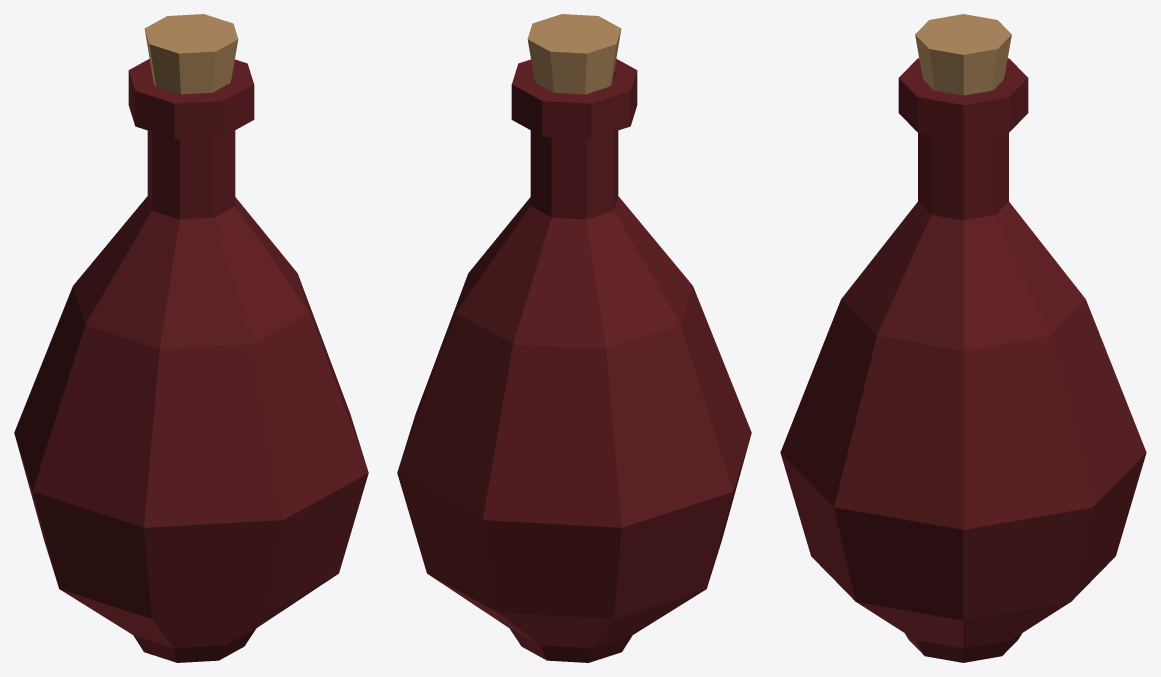
Rendered from Bottle_02.fbx.
3 renders of one model, left to right at view 1: azimuth 30°, elevation 25°; view 2: azimuth 150°, elevation 25°; view 3: azimuth 270°, elevation 25°, orthographic.
Visible parts, largest first — view 1: Bottle_02; view 2: Bottle_02; view 3: Bottle_02.
Boxes of the visible parts, <box> form: Bottle_02: <box>14,14,368,662</box>; Bottle_02: <box>397,14,751,662</box>; Bottle_02: <box>780,14,1146,662</box>.
Size of the model in its own units: 0.1207 by 0.2202 by 0.1207.
